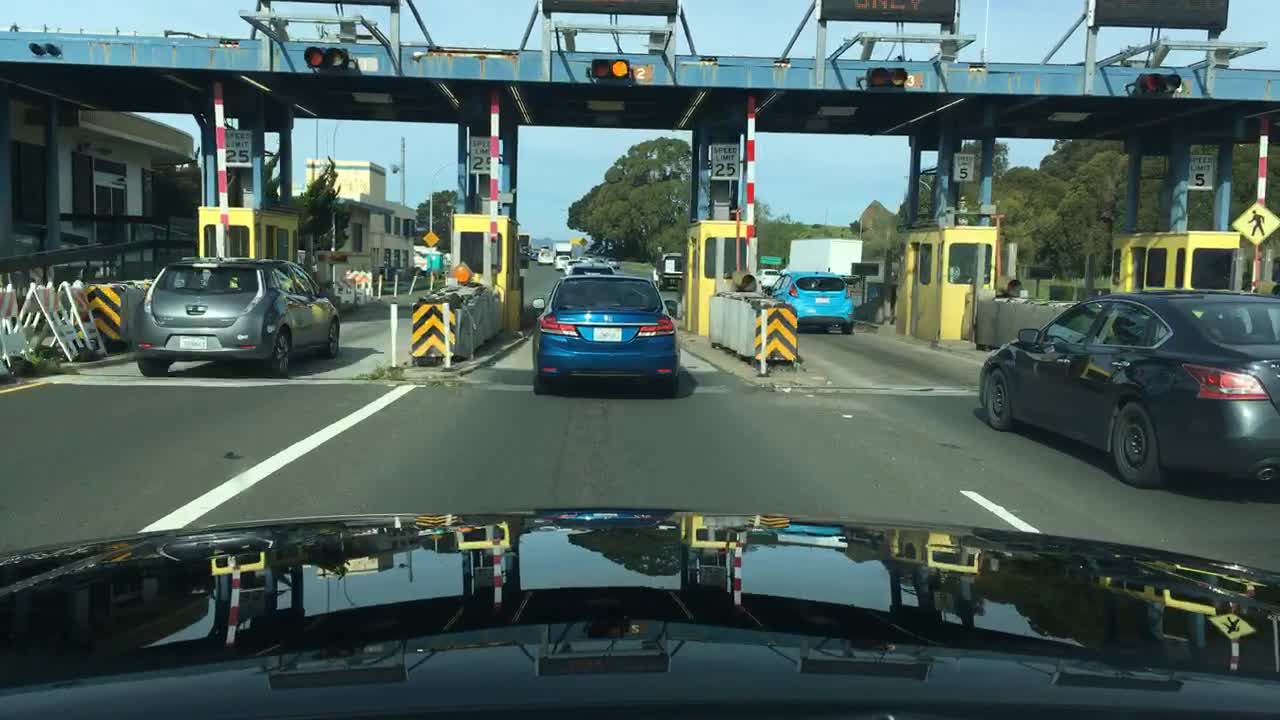car: (977, 290, 1278, 488), (131, 254, 337, 378), (532, 275, 679, 398), (764, 271, 855, 336), (758, 267, 780, 287), (562, 256, 584, 274), (537, 248, 556, 265), (553, 252, 569, 269), (606, 256, 622, 268), (529, 247, 541, 261), (593, 255, 606, 265), (580, 253, 593, 261)
traffic light: (301, 44, 350, 68), (1135, 71, 1182, 95), (589, 58, 634, 82), (870, 63, 909, 86), (29, 39, 62, 58)
traffic sign: (1232, 202, 1277, 244), (708, 140, 739, 176), (225, 128, 252, 166), (471, 136, 492, 174), (1190, 155, 1213, 187), (955, 152, 976, 179), (421, 233, 438, 248), (760, 255, 785, 264)
truck: (780, 236, 858, 277), (650, 251, 687, 290), (552, 237, 572, 256)
